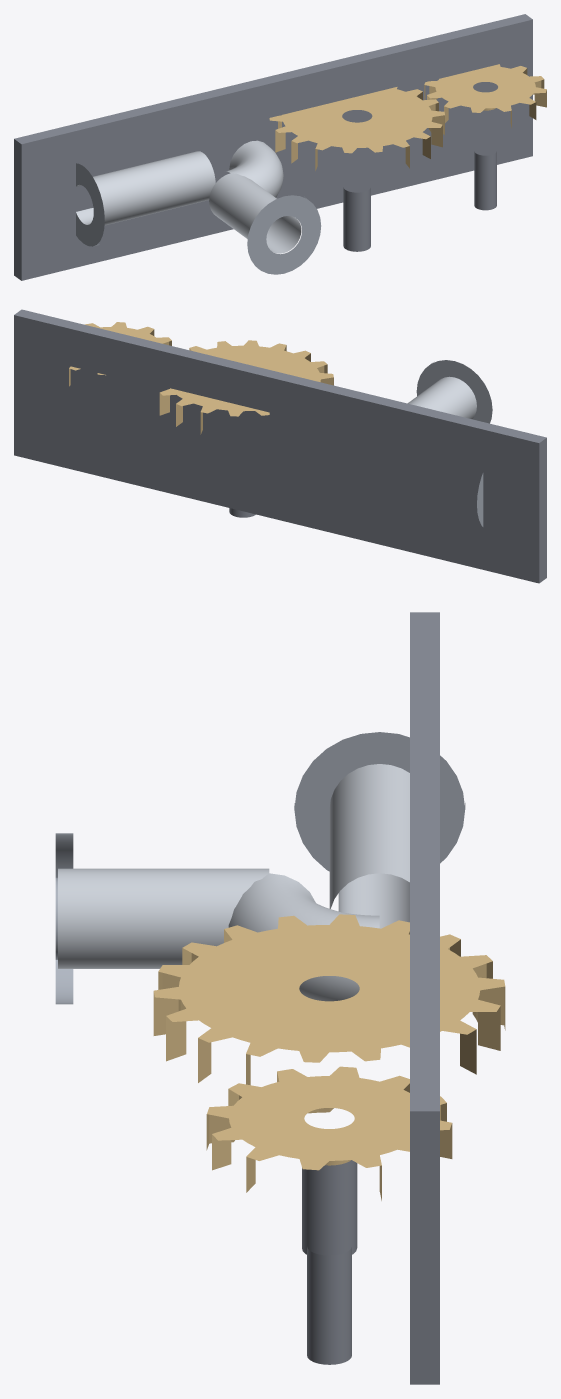
File: gear-pump.glb
3 views of the same model, one above another, from view 1: azimuth 30°, elevation 25°; view 2: azimuth 150°, elevation 25°; view 3: azimuth 270°, elevation 25° (orthographic). The views are drawn at different scales.
Visible parts, largest first — view 1: base-plate, gear-drive, pipe-inlet, gear-driven, pipe-riser, flange-outlet, pipe-elbow, shaft-drive, flange-inlet, shaft-driven; view 2: base-plate, gear-drive, pipe-riser, flange-outlet, gear-driven; view 3: gear-drive, base-plate, pipe-riser, gear-driven, pipe-inlet, flange-inlet, pipe-elbow, shaft-driven, shaft-drive, flange-outlet.
Boxes of the visible parts, bbox=[...] form: base-plate: bbox=[14, 14, 532, 280]; gear-drive: bbox=[269, 87, 444, 170]; pipe-inlet: bbox=[76, 151, 215, 225]; gear-driven: bbox=[424, 64, 546, 128]; pipe-riser: bbox=[209, 173, 301, 253]; flange-outlet: bbox=[247, 195, 321, 274]; pipe-elbow: bbox=[226, 140, 283, 197]; shaft-drive: bbox=[343, 187, 370, 251]; flange-inlet: bbox=[76, 163, 104, 246]; shaft-driven: bbox=[474, 151, 496, 210]; base-plate: bbox=[14, 309, 546, 583]; gear-drive: bbox=[159, 340, 333, 434]; pipe-riser: bbox=[407, 376, 476, 418]; flange-outlet: bbox=[416, 360, 492, 423]; gear-driven: bbox=[69, 322, 171, 386]; gear-drive: bbox=[153, 914, 505, 1085]; base-plate: bbox=[410, 612, 439, 1384]; pipe-riser: bbox=[58, 868, 269, 968]; gear-driven: bbox=[206, 1066, 452, 1200]; pipe-inlet: bbox=[329, 764, 409, 928]; flange-inlet: bbox=[294, 732, 465, 871]; pipe-elbow: bbox=[228, 873, 379, 1001]; shaft-driven: bbox=[307, 1247, 351, 1364]; shaft-drive: bbox=[302, 1160, 357, 1255]; flange-outlet: bbox=[55, 833, 73, 1004].
Bounding box in the file's own units: 2.35 × 0.72 × 0.8949.
